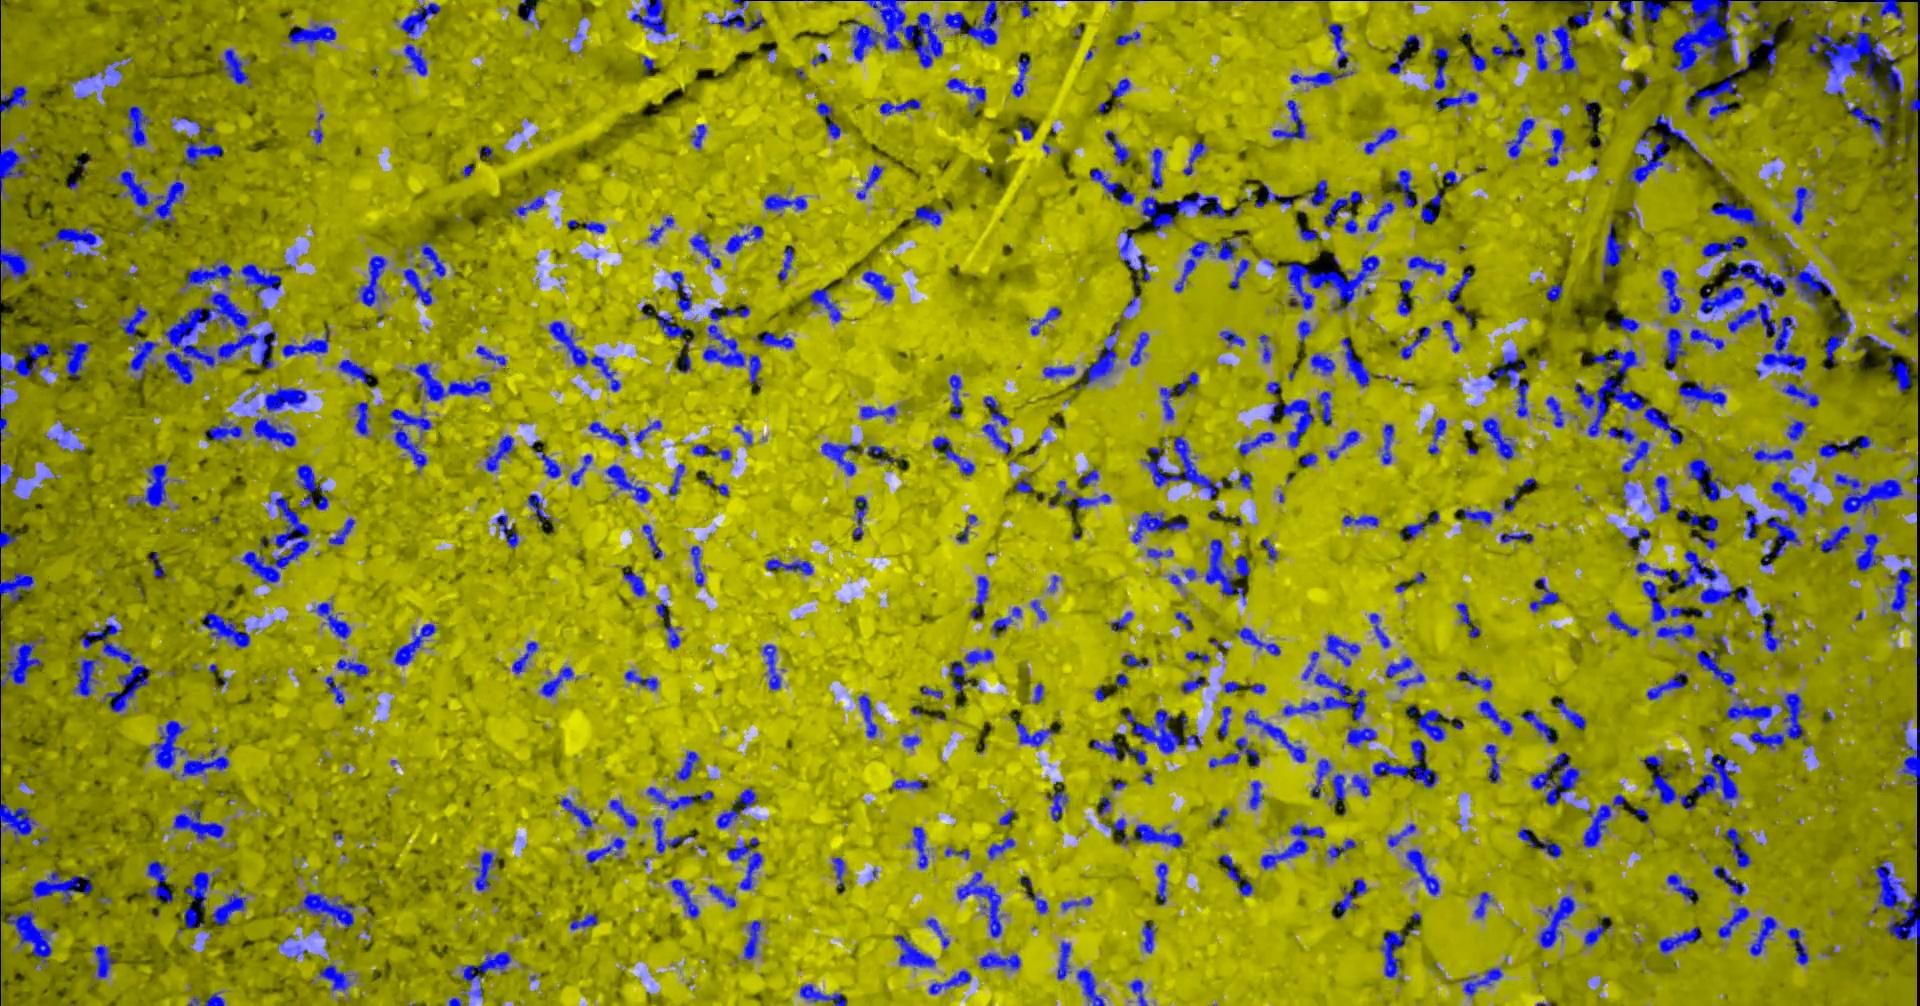ant: (550, 320, 622, 391), (1629, 113, 1697, 182), (1291, 23, 1354, 86), (1143, 191, 1227, 231), (1244, 709, 1307, 762), (1374, 739, 1439, 788), (1750, 694, 1807, 748), (957, 871, 1004, 937), (411, 362, 491, 400), (121, 304, 160, 380), (1083, 314, 1125, 385), (1643, 754, 1697, 809), (1262, 823, 1326, 869), (391, 408, 433, 471), (1490, 352, 1530, 417), (1208, 539, 1246, 605), (1691, 753, 1738, 807), (1128, 709, 1182, 753), (298, 890, 356, 931), (8, 911, 53, 962), (1, 640, 44, 694), (1583, 794, 1625, 847), (33, 870, 95, 904), (1695, 72, 1738, 121), (1175, 239, 1213, 292), (143, 177, 185, 225), (728, 837, 764, 890), (395, 622, 438, 666), (1540, 895, 1576, 948), (1161, 371, 1199, 419), (149, 720, 187, 768), (1712, 193, 1765, 227), (1644, 580, 1689, 621), (1133, 511, 1189, 542), (1, 793, 37, 842), (1698, 649, 1737, 694), (1120, 227, 1150, 285), (607, 464, 651, 502), (203, 612, 251, 647), (935, 436, 977, 475), (968, 0, 1004, 44), (648, 786, 715, 810), (1407, 848, 1441, 895), (1848, 105, 1888, 145), (1283, 399, 1316, 447), (9, 340, 53, 376), (1535, 0, 1596, 25), (1210, 737, 1261, 767), (174, 809, 225, 840), (463, 950, 512, 982), (654, 817, 695, 854), (1737, 0, 1785, 30), (298, 464, 330, 509), (1408, 702, 1446, 741), (1324, 191, 1364, 227), (361, 255, 389, 306), (1343, 337, 1371, 387), (1771, 479, 1810, 516), (1484, 417, 1517, 459), (895, 934, 937, 967), (137, 464, 169, 507), (1768, 516, 1801, 556), (1519, 828, 1564, 857), (1690, 459, 1722, 500), (183, 748, 230, 776), (315, 602, 352, 638), (1272, 99, 1305, 138), (243, 263, 283, 295), (632, 0, 668, 36), (119, 170, 154, 207), (1, 246, 30, 290), (1553, 23, 1578, 72), (822, 442, 860, 475), (1335, 878, 1368, 916), (403, 3, 442, 34), (947, 77, 987, 109), (1238, 627, 1283, 655), (1134, 823, 1185, 847), (63, 340, 91, 384), (187, 259, 234, 285), (1382, 930, 1407, 977), (1820, 434, 1872, 457), (1463, 967, 1503, 996), (1702, 286, 1746, 312), (658, 312, 691, 348), (1481, 700, 1514, 735), (255, 418, 297, 446), (1890, 567, 1915, 612), (670, 879, 701, 917), (1660, 926, 1703, 953), (1724, 827, 1752, 868), (213, 893, 248, 926), (691, 232, 723, 268), (657, 603, 682, 648), (561, 796, 597, 828), (185, 871, 212, 913), (404, 267, 433, 305), (283, 332, 329, 356), (1509, 118, 1537, 158), (1857, 532, 1884, 572), (1, 149, 27, 192), (265, 386, 309, 412), (1523, 710, 1556, 743), (811, 287, 843, 321), (1327, 634, 1361, 666), (1648, 672, 1689, 699), (486, 434, 516, 471), (1680, 382, 1727, 405), (726, 225, 764, 253), (149, 860, 174, 902), (930, 969, 971, 995), (185, 138, 225, 165), (1751, 916, 1778, 955), (1401, 326, 1432, 359), (1, 572, 36, 602), (1727, 697, 1773, 720), (221, 48, 250, 84), (1078, 968, 1106, 1005), (290, 23, 337, 44), (1605, 221, 1627, 268), (801, 983, 848, 1005), (590, 420, 630, 446), (75, 657, 100, 696), (587, 837, 626, 862), (1703, 235, 1749, 257), (128, 105, 152, 146), (1393, 169, 1418, 207), (542, 666, 574, 696), (1716, 865, 1747, 895), (1669, 873, 1700, 903), (1719, 906, 1750, 937), (1017, 721, 1057, 746), (1903, 727, 1920, 784), (817, 102, 842, 138), (1663, 269, 1685, 312), (1557, 699, 1587, 729), (863, 271, 895, 300), (951, 661, 980, 692), (1092, 168, 1125, 196), (1328, 431, 1361, 459), (1239, 431, 1277, 455), (1406, 512, 1440, 539), (1763, 610, 1784, 652), (858, 164, 884, 199), (1256, 184, 1295, 207), (475, 851, 498, 890), (983, 423, 1012, 453), (993, 606, 1023, 635), (1623, 439, 1651, 471), (1531, 578, 1559, 610), (1501, 24, 1528, 57), (1366, 127, 1399, 154), (672, 271, 693, 311), (720, 11, 766, 30), (422, 241, 447, 276), (1665, 326, 1688, 365), (1032, 306, 1062, 335), (1368, 201, 1396, 231), (1821, 525, 1851, 553), (1890, 354, 1912, 391), (1784, 384, 1821, 406), (206, 418, 243, 441), (1106, 130, 1131, 163), (53, 227, 104, 244), (1608, 611, 1641, 636), (1826, 332, 1848, 370), (858, 694, 877, 737), (610, 799, 639, 827), (513, 641, 538, 673), (1312, 758, 1332, 798), (1437, 91, 1479, 111), (340, 359, 373, 384), (1064, 493, 1112, 509), (497, 514, 521, 547), (1788, 927, 1810, 964), (764, 644, 782, 688), (94, 944, 117, 978), (1219, 854, 1247, 882), (767, 558, 814, 574), (1547, 128, 1567, 166), (321, 964, 352, 989), (1432, 46, 1450, 89), (1449, 268, 1472, 301), (1410, 255, 1446, 276), (1457, 669, 1493, 690), (1, 85, 28, 113), (980, 951, 1022, 969), (1185, 141, 1206, 175), (985, 395, 1010, 426), (1793, 185, 1812, 224), (1691, 328, 1724, 349), (1048, 788, 1069, 821), (649, 216, 676, 243), (927, 918, 951, 948), (1658, 622, 1698, 640), (405, 44, 428, 75), (571, 453, 593, 485), (1429, 418, 1448, 453), (537, 451, 563, 478), (1655, 475, 1672, 513), (881, 98, 922, 114), (644, 525, 664, 558), (626, 669, 659, 690), (530, 493, 552, 522), (510, 196, 545, 215), (745, 920, 762, 959), (1230, 258, 1251, 290), (330, 518, 356, 544), (1763, 32, 1778, 74), (766, 194, 808, 210), (1387, 655, 1415, 678), (1389, 823, 1417, 846), (914, 826, 930, 868), (1585, 922, 1613, 945), (1641, 0, 1670, 22), (678, 751, 700, 780), (1015, 58, 1031, 97), (1443, 319, 1462, 352), (1131, 332, 1150, 365), (757, 332, 795, 348), (1371, 614, 1390, 647), (855, 495, 869, 540), (623, 570, 648, 596), (636, 420, 663, 443), (710, 884, 737, 907), (1349, 727, 1378, 747), (477, 345, 508, 365), (1486, 744, 1501, 782), (989, 837, 1016, 859), (1150, 149, 1164, 189), (778, 246, 795, 281), (734, 788, 758, 810), (338, 659, 371, 676), (1547, 396, 1564, 427), (1330, 774, 1347, 804), (978, 575, 990, 617), (1058, 941, 1072, 979), (1876, 0, 1905, 18), (914, 206, 943, 224), (1608, 426, 1637, 443), (966, 648, 996, 666), (1383, 423, 1396, 464), (1755, 448, 1796, 461), (692, 545, 705, 586), (951, 373, 963, 418), (1476, 890, 1495, 917), (1619, 0, 1634, 33), (1303, 652, 1321, 680), (1330, 840, 1357, 857), (945, 11, 966, 34), (1214, 239, 1238, 259), (1312, 353, 1336, 373), (1310, 179, 1330, 205), (670, 464, 686, 495), (1095, 739, 1120, 758), (185, 903, 204, 929), (1319, 391, 1333, 426), (862, 405, 897, 419), (1158, 862, 1170, 904), (328, 676, 345, 702), (1537, 33, 1549, 70), (1182, 674, 1206, 694), (1503, 485, 1521, 511), (833, 857, 846, 893), (1131, 979, 1149, 1005), (1063, 895, 1095, 909), (1112, 611, 1134, 631), (1352, 774, 1371, 796), (717, 809, 740, 828), (1746, 511, 1761, 539), (571, 913, 599, 929), (1343, 514, 1380, 526), (357, 401, 370, 434), (1112, 818, 1129, 843), (1390, 51, 1410, 72), (1, 464, 23, 483), (1465, 509, 1495, 523), (1251, 780, 1265, 809), (1044, 365, 1076, 377), (1398, 672, 1426, 686), (1111, 77, 1131, 97), (1470, 50, 1488, 71), (1909, 77, 1920, 111), (1548, 277, 1564, 300), (1125, 747, 1148, 763), (1219, 706, 1232, 735), (1144, 922, 1157, 951), (1222, 330, 1246, 345), (1788, 420, 1807, 439), (1628, 528, 1650, 545), (1260, 334, 1272, 362), (1123, 653, 1150, 666), (152, 553, 168, 575), (893, 779, 927, 789), (1119, 185, 1137, 205), (1117, 30, 1142, 44), (693, 124, 707, 149), (1620, 315, 1641, 332), (1032, 893, 1049, 913), (1502, 532, 1534, 542), (1300, 225, 1319, 241), (737, 426, 753, 445), (1, 528, 18, 547), (1177, 611, 1194, 630), (1422, 203, 1437, 224), (1236, 555, 1251, 575), (1032, 600, 1048, 620), (1299, 320, 1313, 342), (1458, 602, 1472, 624), (922, 685, 943, 699), (1083, 467, 1100, 485), (1213, 808, 1229, 826), (946, 847, 971, 859), (1445, 170, 1465, 184), (1263, 539, 1277, 559), (1, 353, 6, 408), (1187, 650, 1211, 662), (204, 992, 226, 1005), (522, 4, 537, 22), (1403, 34, 1421, 50), (1018, 121, 1034, 138), (1148, 547, 1175, 558), (869, 445, 888, 459), (1892, 323, 1912, 335), (1493, 44, 1509, 61), (1399, 298, 1415, 315), (1016, 478, 1034, 492), (585, 221, 607, 232), (711, 448, 733, 460), (1346, 213, 1359, 232), (644, 55, 655, 75), (1634, 807, 1650, 822), (1302, 452, 1318, 466), (1239, 473, 1253, 489), (904, 735, 921, 749), (1238, 882, 1255, 895), (679, 354, 692, 372), (957, 525, 970, 542), (1100, 796, 1112, 814), (310, 128, 324, 144), (1001, 810, 1015, 826), (813, 52, 829, 65), (1432, 185, 1443, 206), (1035, 683, 1045, 702), (1187, 733, 1203, 746), (1250, 683, 1267, 694), (1402, 279, 1415, 293), (1269, 381, 1281, 395), (1688, 512, 1702, 525), (1183, 568, 1197, 580), (1708, 516, 1719, 531), (1225, 681, 1241, 692), (1, 413, 8, 439), (1022, 0, 1032, 17), (693, 445, 709, 455), (1116, 673, 1129, 685)
